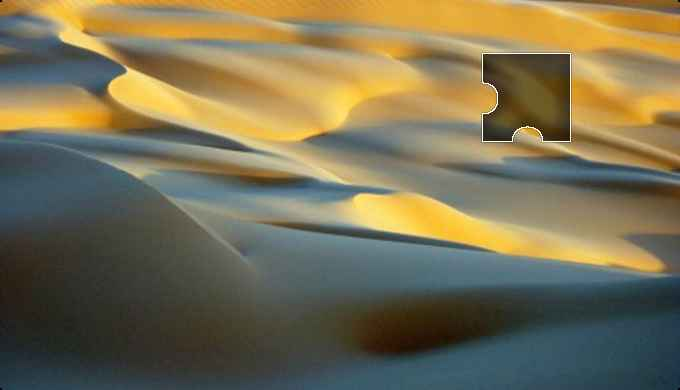gap: (483, 52, 570, 143)
